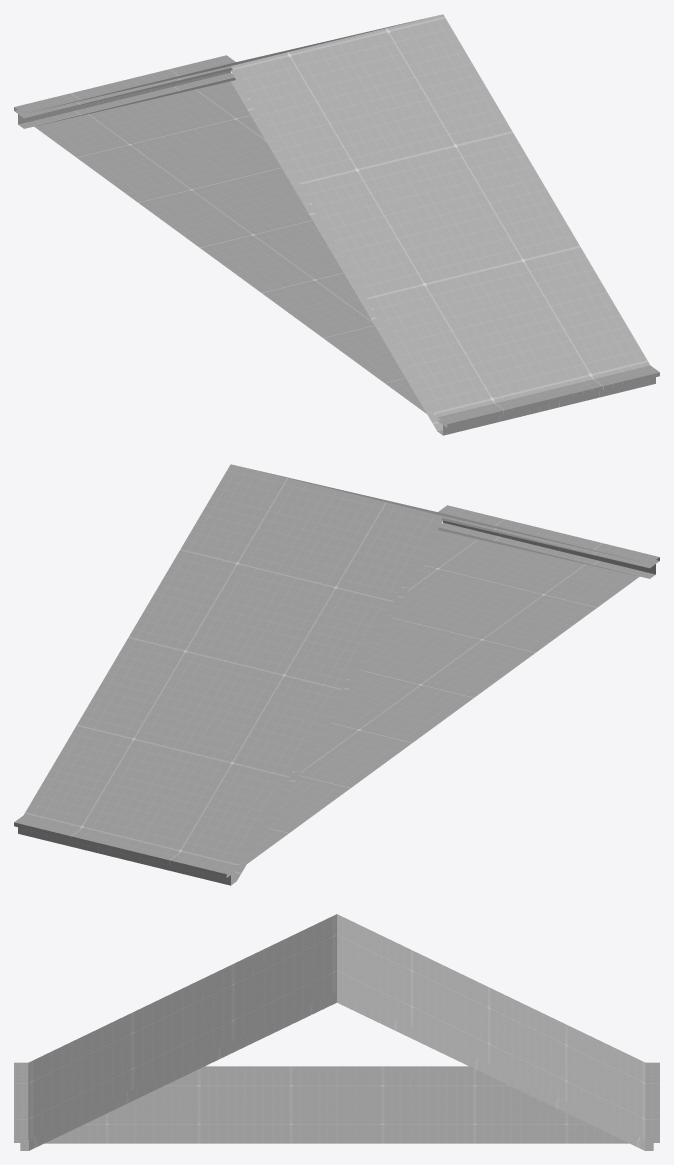
File: Roof.001.fbx
3 views of the same model, one above another, from view 1: azimuth 30°, elevation 25°; view 2: azimuth 150°, elevation 25°; view 3: azimuth 270°, elevation 25° (orthographic). The views are drawn at different scales.
Visible parts, largest first — view 1: Roof.001; view 2: Roof.001; view 3: Roof.001.
Boxes of the visible parts, <box> form: Roof.001: <box>14,14,659,435</box>; Roof.001: <box>14,464,659,885</box>; Roof.001: <box>14,914,659,1150</box>.
Size of the model in its own units: 200 by 192 by 706.
